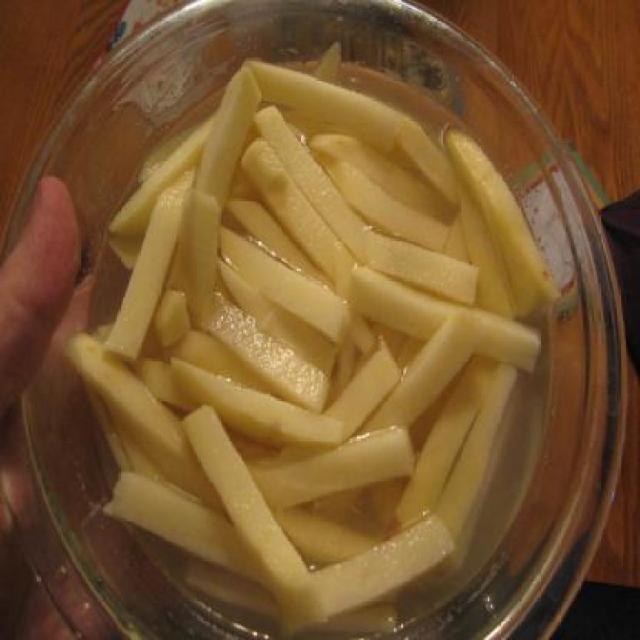French fries: (71, 44, 560, 638)
